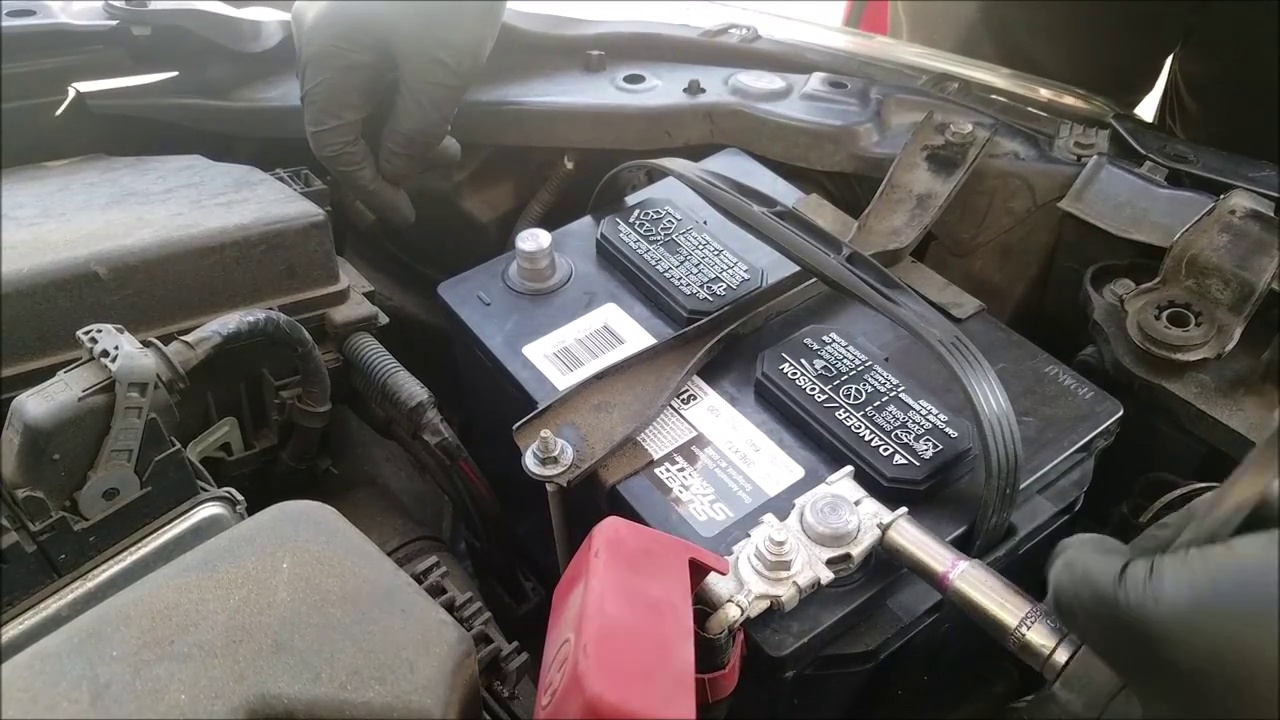battery: (432, 137, 1129, 671)
neg_disconnected: (474, 202, 619, 321)
pos_connected: (552, 452, 919, 679)
